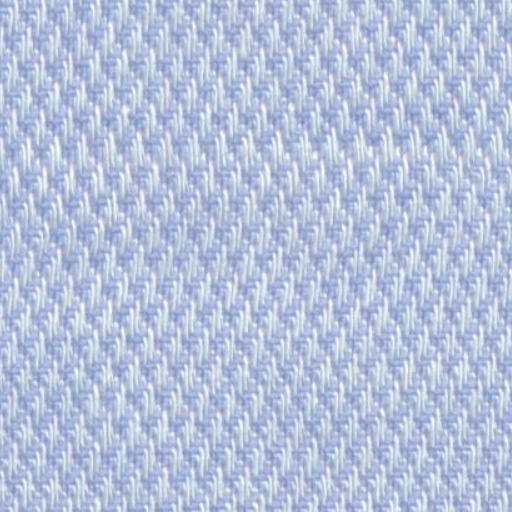TuoSha: (28, 110, 489, 188)
